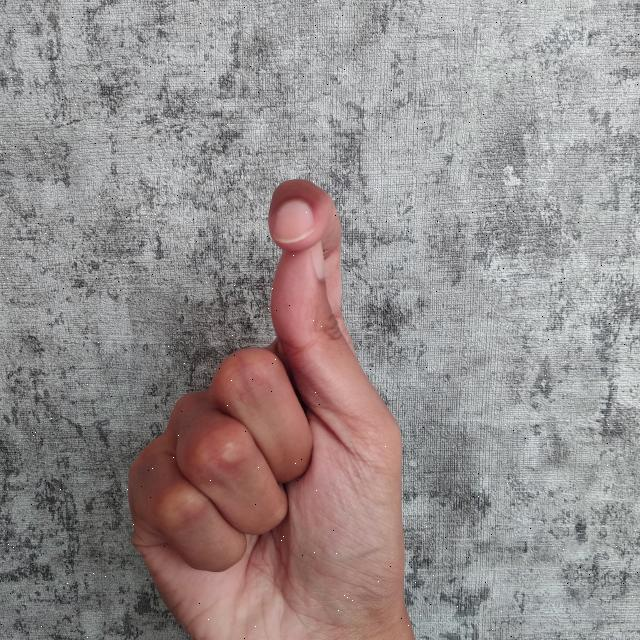T: (119, 171, 422, 640)
